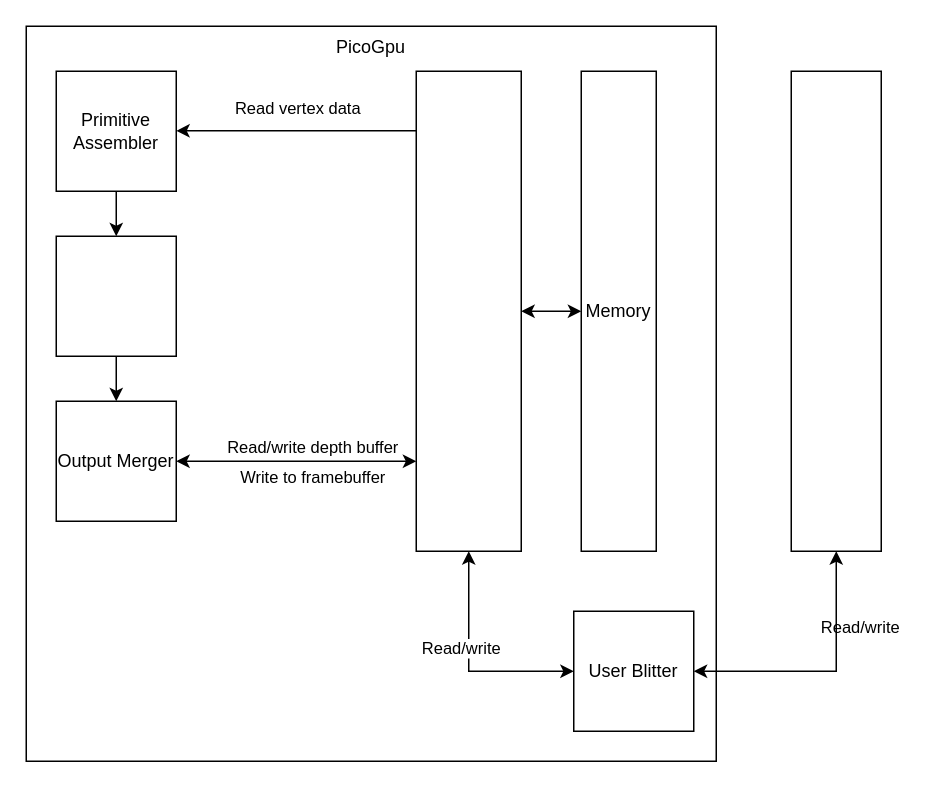
Image size: 926x788. Some labels were removed from this diagram. The shapes that lost their labels are listed below. From the top down, each one's centre as x and y in pixels, then its label:
At point 115,295: "Rasterizer".
At point 468,310: "Memory Controller".
At point 835,310: "System Memory".
